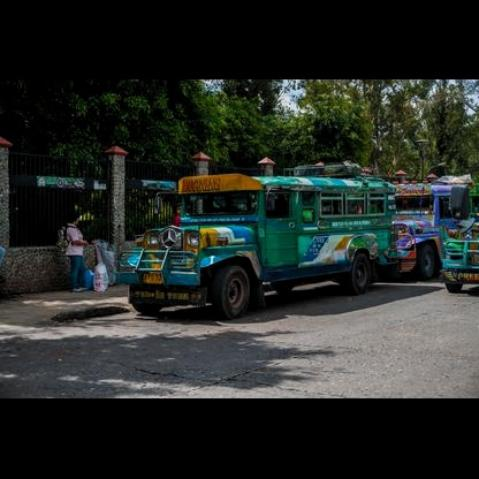jeepney: (135, 158, 391, 338)
